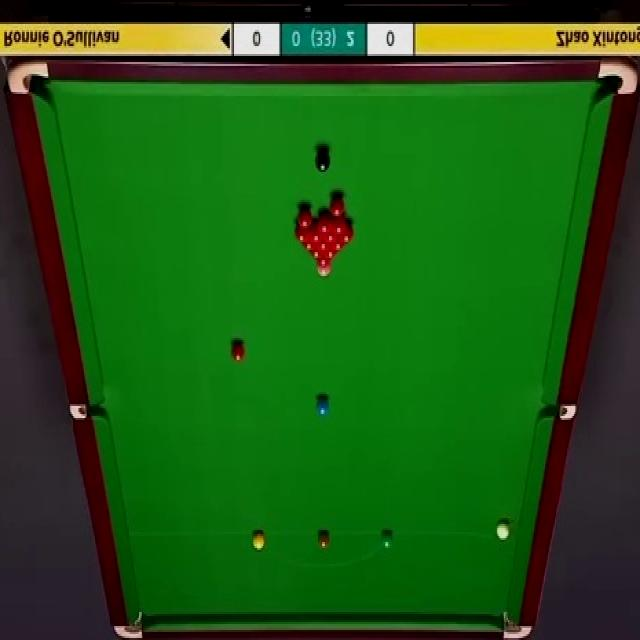black-ball: (316, 150, 330, 172)
blue-ball: (316, 397, 330, 418)
brown-ball: (317, 529, 330, 551)
green-ball: (380, 530, 393, 551)
pink-ball: (316, 264, 334, 278)
red-ball: (230, 340, 246, 364), (299, 207, 313, 228), (331, 196, 344, 218), (340, 225, 354, 244), (310, 222, 323, 242), (333, 230, 345, 251), (295, 223, 309, 241), (318, 213, 331, 232), (325, 221, 337, 241), (340, 213, 351, 232), (302, 242, 316, 250), (316, 242, 333, 248)
white-ball: (494, 519, 510, 542)
yellow-ball: (253, 530, 265, 550)
